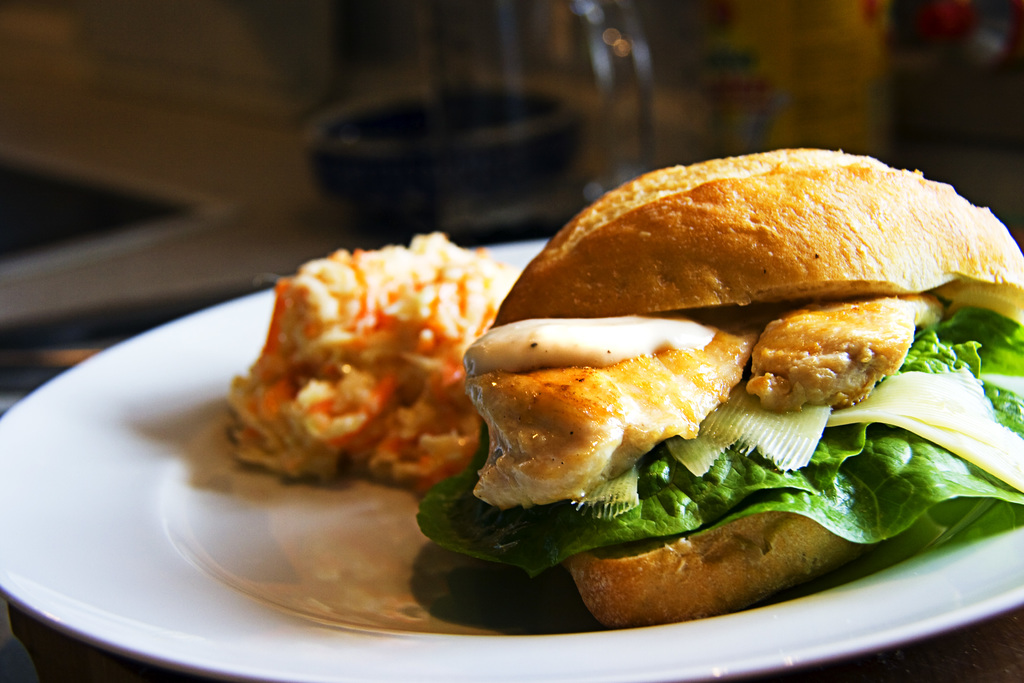Hamburger: (416, 148, 1023, 628)
